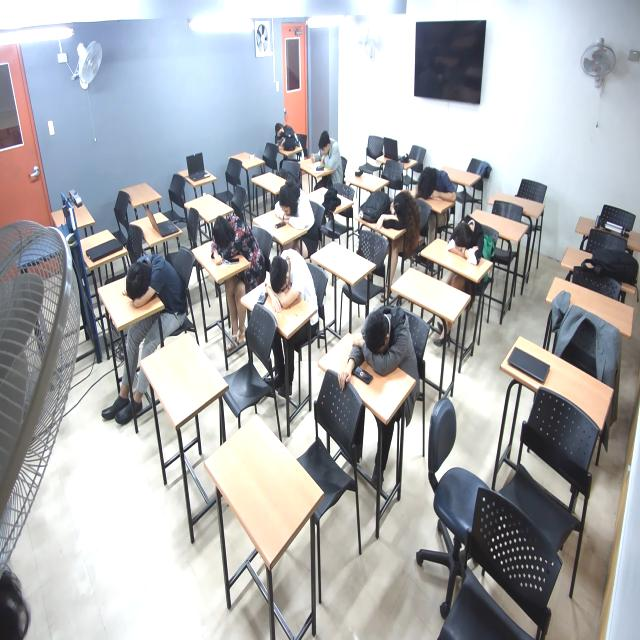sleep: (355, 302, 417, 379), (123, 247, 185, 315), (264, 247, 323, 318), (452, 209, 503, 277), (205, 213, 259, 272), (377, 189, 422, 243), (415, 161, 460, 212), (274, 184, 315, 229), (273, 121, 303, 154)
